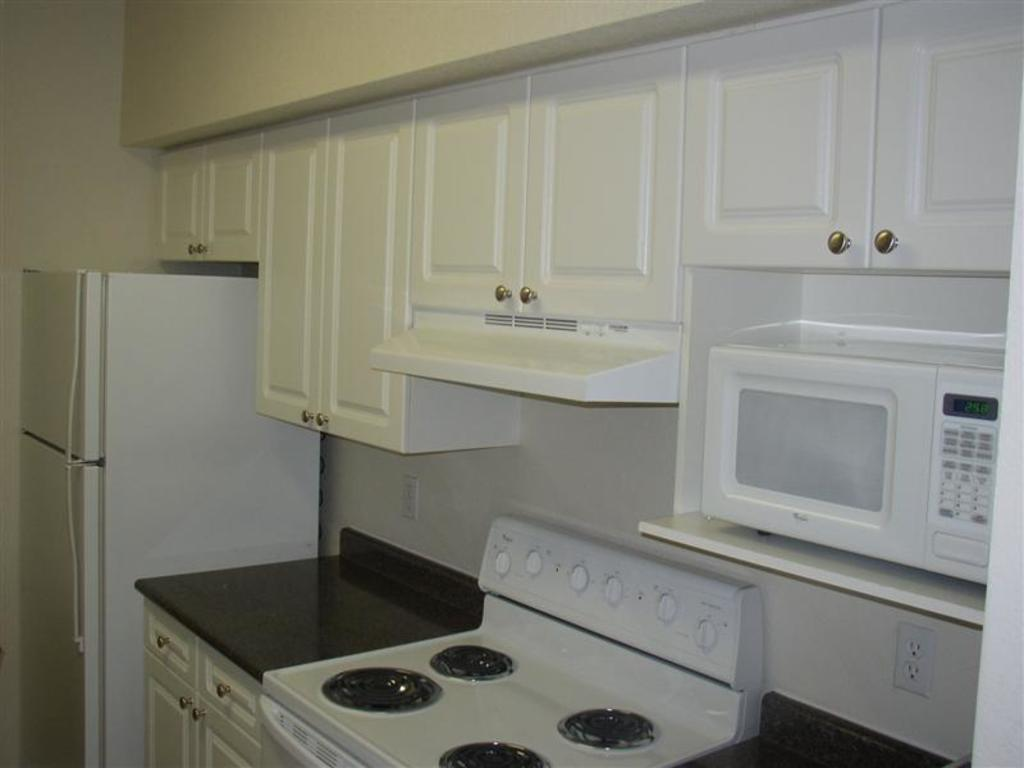cabinet_door: (694, 56, 866, 268), (520, 91, 670, 310), (874, 66, 1018, 269), (322, 148, 402, 442), (412, 103, 514, 310), (258, 144, 320, 428), (204, 160, 258, 271), (194, 660, 264, 728), (192, 699, 254, 768), (161, 158, 199, 266), (150, 670, 190, 767), (150, 620, 192, 678)
handle: (56, 466, 86, 645), (62, 274, 86, 431), (870, 222, 898, 259), (824, 225, 850, 261), (514, 278, 540, 308), (206, 672, 232, 702), (295, 400, 312, 434), (152, 628, 171, 658), (312, 410, 332, 436), (493, 282, 511, 308), (194, 237, 210, 260), (187, 702, 201, 728), (178, 691, 192, 716), (183, 238, 199, 258)
